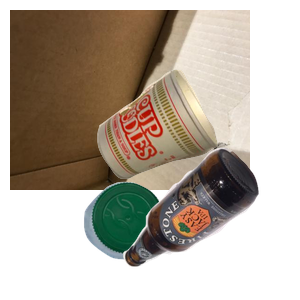cardboard: (10, 10, 250, 190)
glass: (120, 145, 300, 300)
plastic: (81, 179, 239, 300)
trash: (95, 67, 300, 238)
